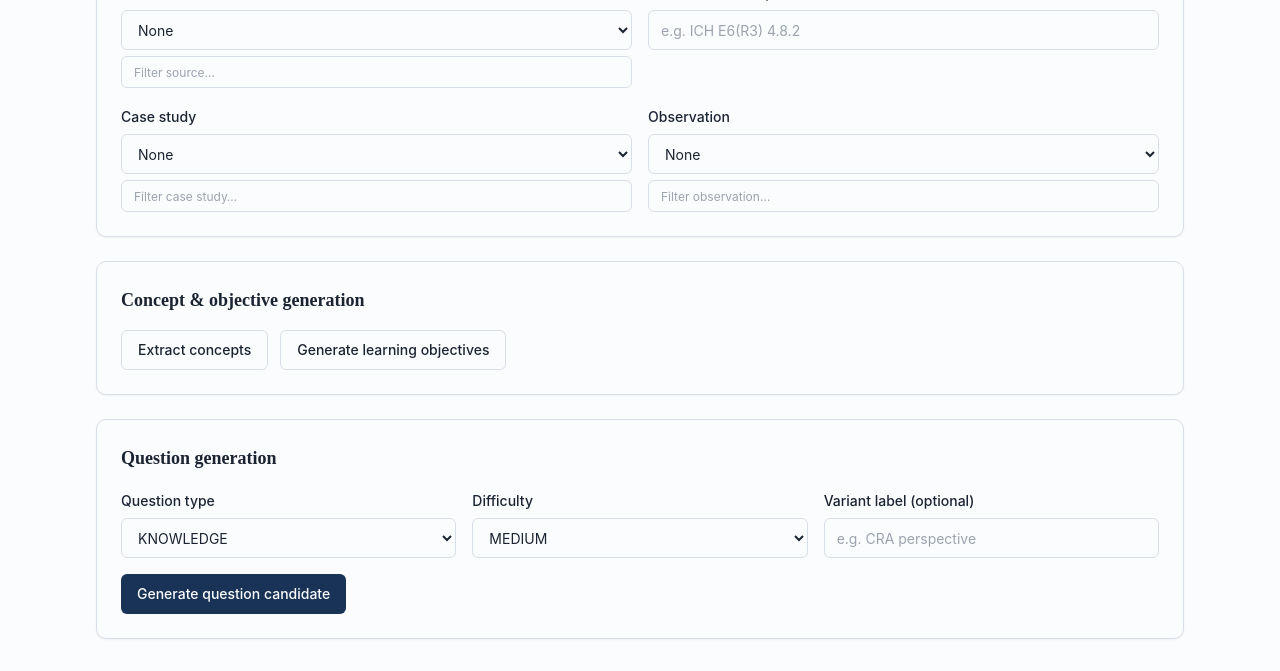
Test: AI workspace page › renders the candidate-content disclaimer and lets a CONTENT_AUTHOR generate a question
(page scrolled)
Click the button "Generate question candidate" at point(234, 594), box x1=121 y1=574 x2=346 y2=614
(page scrolled)
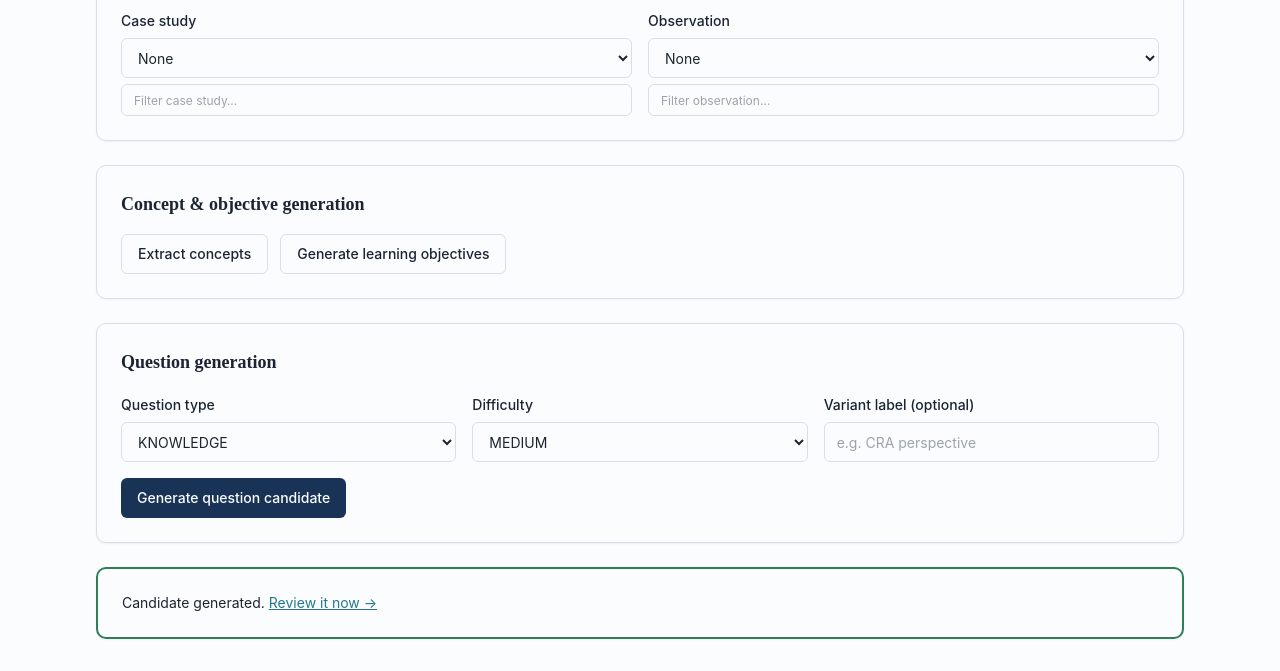
Now the link "Review it now →" is shown, box x1=269 y1=594 x2=377 y2=611
